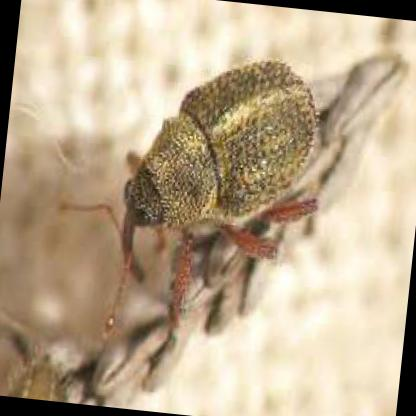ash weevil: (120, 60, 322, 332)
